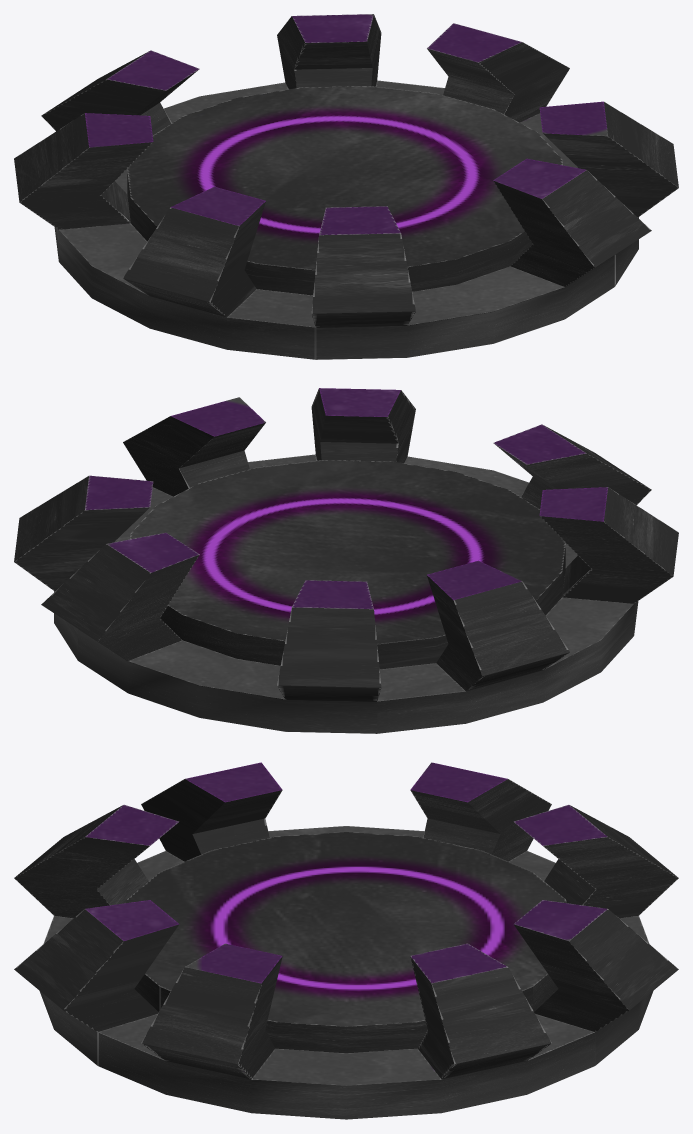
File: Teleporter.fbx
3 renders of one model, top to bottom at view 1: azimuth 30°, elevation 25°; view 2: azimuth 150°, elevation 25°; view 3: azimuth 270°, elevation 25°, orthographic. The views are drawn at different scales.
Parts seen in each view (by area): view 1: pCylinder1; view 2: pCylinder1; view 3: pCylinder1.
Part boxes in pixels (x1=…): pCylinder1: x1=14, y1=14, x2=678, y2=359; pCylinder1: x1=14, y1=388, x2=678, y2=733; pCylinder1: x1=14, y1=762, x2=678, y2=1119.
Bounding box in the file's own units: 9.52 × 1.84 × 9.52.
